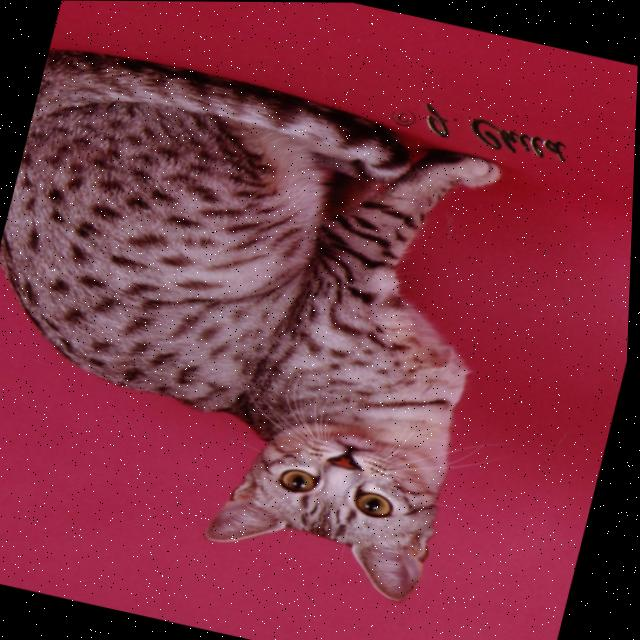Egyptian Mau: (0, 34, 541, 607)
